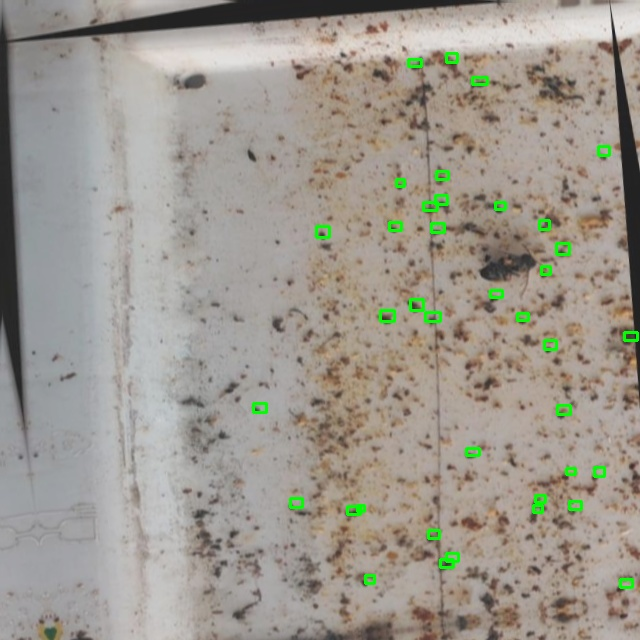varroa: (380, 310, 394, 321), (316, 226, 329, 237), (410, 299, 423, 310), (556, 243, 569, 254), (425, 312, 440, 321), (431, 223, 444, 232), (253, 403, 266, 412), (557, 405, 570, 414), (423, 202, 437, 210), (435, 195, 447, 204), (544, 340, 556, 349), (290, 498, 302, 507), (472, 77, 487, 84), (624, 332, 637, 340), (347, 506, 360, 514), (440, 559, 453, 567), (446, 53, 457, 62), (598, 146, 609, 155), (436, 171, 448, 179), (389, 222, 401, 230), (569, 501, 581, 509), (446, 553, 458, 561), (620, 579, 632, 587), (408, 59, 421, 66), (466, 448, 479, 455), (539, 220, 549, 229), (594, 467, 604, 476), (428, 530, 439, 538), (490, 290, 502, 297), (517, 313, 528, 320), (541, 266, 550, 274), (365, 575, 374, 583), (495, 202, 505, 209), (535, 495, 545, 502), (533, 505, 542, 512), (396, 179, 404, 186), (566, 468, 575, 474), (357, 505, 364, 511)
